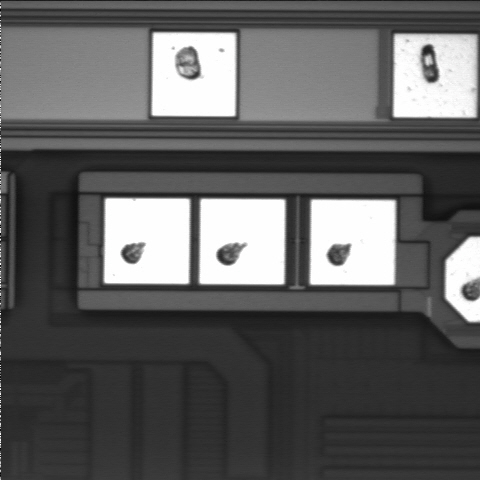pad: (104, 198, 190, 284), (200, 199, 285, 284), (310, 200, 395, 285), (152, 33, 236, 116), (394, 35, 476, 117)
